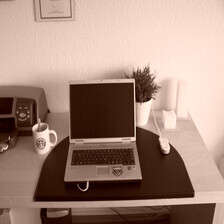laptop: (48, 71, 152, 193)
